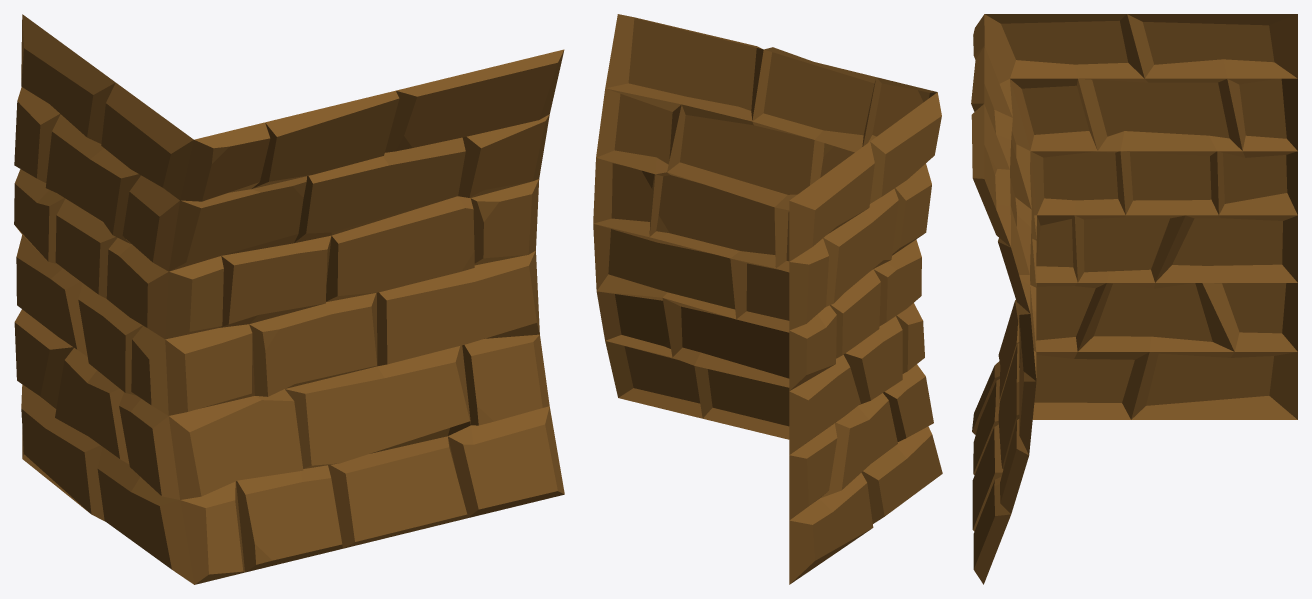
The model's file is Cave_Wall01.fbx.
3 views of the same model, side by side, from view 1: azimuth 30°, elevation 25°; view 2: azimuth 150°, elevation 25°; view 3: azimuth 270°, elevation 25° (orthographic). The views are drawn at different scales.
Parts seen in each view (by area): view 1: Cave_Wall01.001; view 2: Cave_Wall01.001; view 3: Cave_Wall01.001.
Boxes of the visible parts, bbox=[...] form: Cave_Wall01.001: bbox=[14, 14, 564, 584]; Cave_Wall01.001: bbox=[593, 14, 942, 584]; Cave_Wall01.001: bbox=[971, 14, 1297, 584].
Size of the model in its own units: 2754 by 3046 by 2222.
